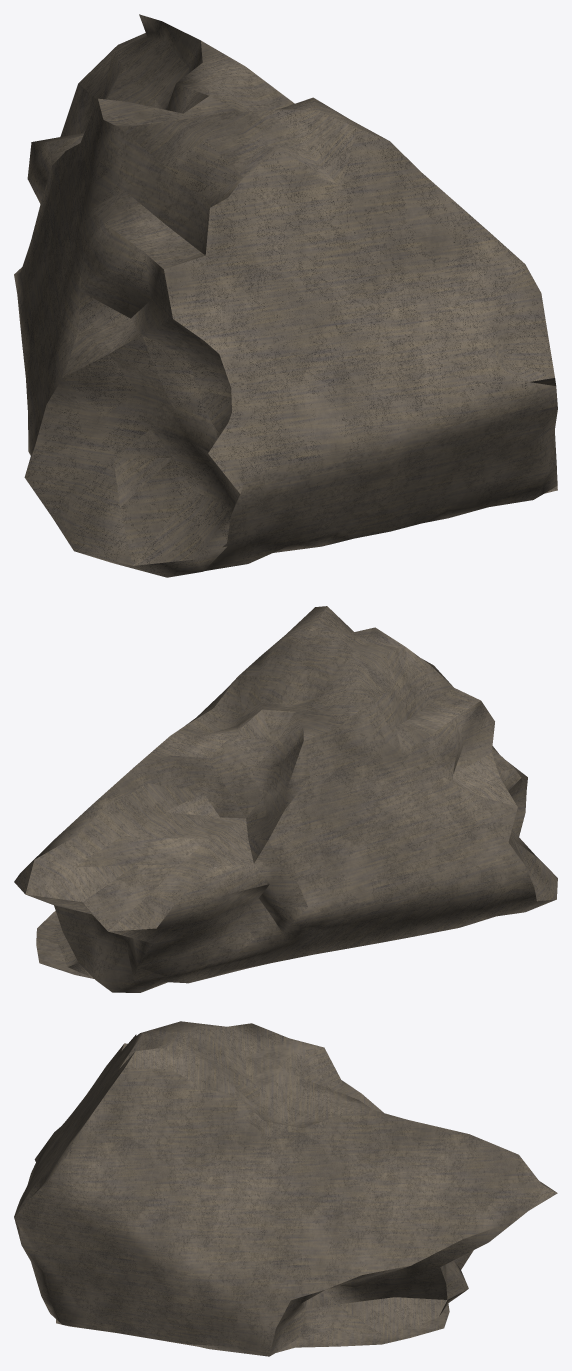
File: SM_Rocas_PuertaNorte_02.fbx
3 views of the same model, one above another, from view 1: azimuth 30°, elevation 25°; view 2: azimuth 150°, elevation 25°; view 3: azimuth 270°, elevation 25° (orthographic). The views are drawn at different scales.
Parts seen in each view (by area): view 1: SM_Rocas_PuertaNorte_02; view 2: SM_Rocas_PuertaNorte_02; view 3: SM_Rocas_PuertaNorte_02.
Boxes of the visible parts, x1,y1,x2,y2 form: SM_Rocas_PuertaNorte_02: (14, 14, 557, 577); SM_Rocas_PuertaNorte_02: (14, 606, 557, 992); SM_Rocas_PuertaNorte_02: (14, 1021, 557, 1356).
Size of what is drawn, in the model's own units: 5.23 by 6.87 by 3.2.
